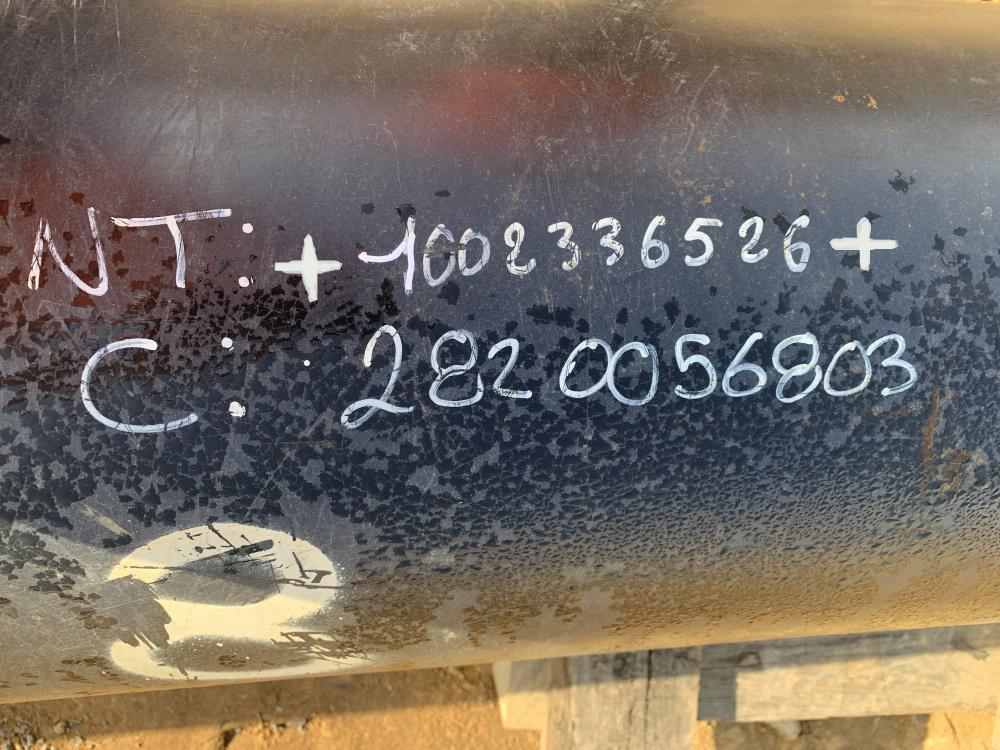+: (273, 235, 345, 299), (826, 214, 898, 274)
0: (608, 334, 658, 408), (560, 336, 608, 404), (422, 220, 458, 288), (826, 342, 870, 397), (456, 230, 490, 279)
1: (364, 218, 417, 292)
2: (342, 326, 414, 437), (487, 338, 536, 407), (505, 222, 536, 276), (735, 219, 768, 266)
3: (869, 332, 918, 400), (589, 215, 625, 268), (549, 223, 583, 271)
5: (672, 332, 716, 405), (686, 218, 724, 270)
6: (724, 328, 769, 400), (782, 216, 814, 274), (642, 214, 670, 272)
8: (429, 328, 485, 410), (774, 332, 822, 404)
C: (76, 335, 201, 436)
N: (27, 209, 110, 302)
T: (114, 208, 235, 292)
